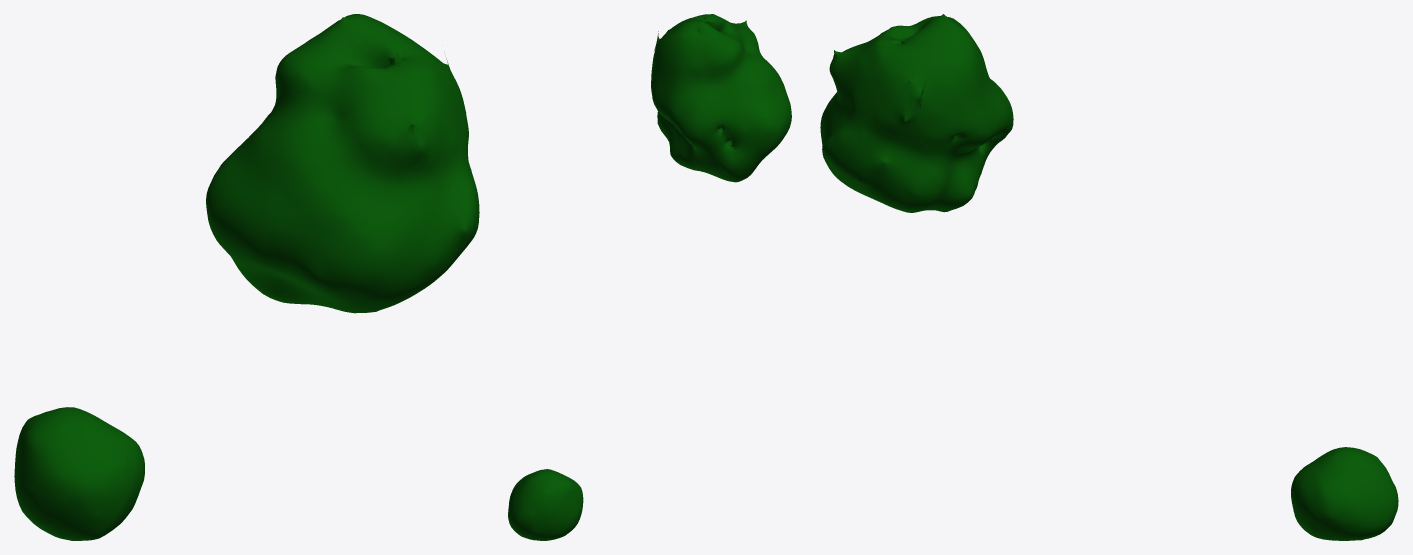
Rendered from Lesions.obj.
The picture shows the model from 3 angles, left to right: view 1: azimuth 30°, elevation 25°; view 2: azimuth 150°, elevation 25°; view 3: azimuth 270°, elevation 25°; orthographic projection. The views are drawn at different scales.
Visible parts, largest first — view 1: grp1; view 2: grp1; view 3: grp1.
Part boxes in pixels (x1,y1,x2,y2): grp1: (14, 14, 479, 540); grp1: (508, 14, 791, 540); grp1: (820, 14, 1398, 540).
Size of the model in its own units: 26.38 by 75.68 by 75.98.
